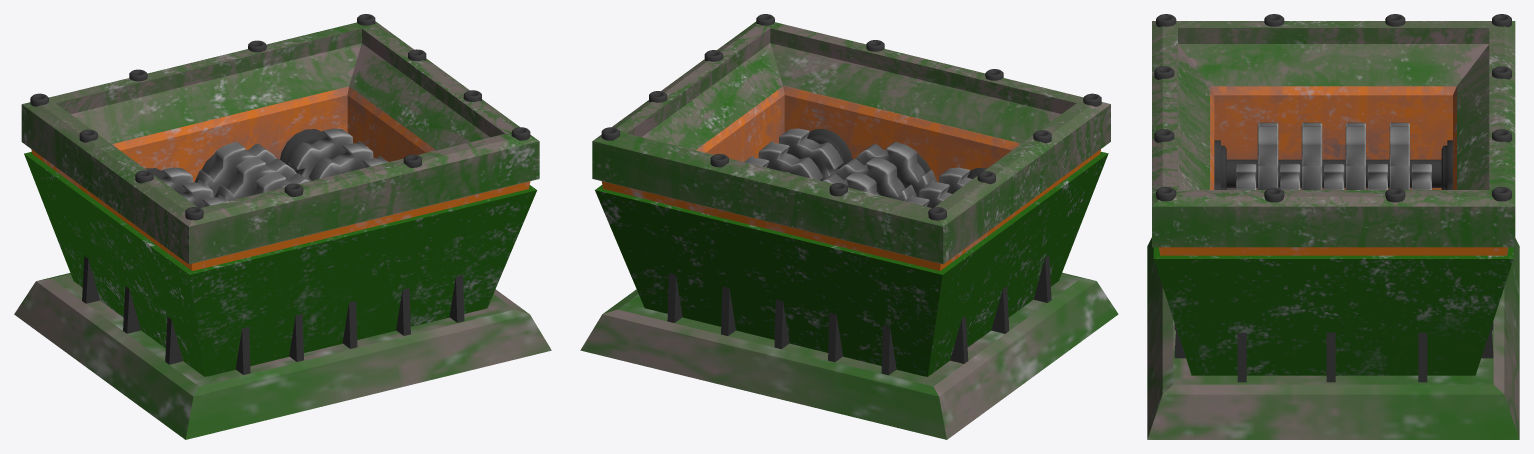
The model's file is lv3_shredding_machine.fbx.
3 renders of one model, left to right at view 1: azimuth 30°, elevation 25°; view 2: azimuth 150°, elevation 25°; view 3: azimuth 270°, elevation 25°, orthographic. The views are drawn at different scales.
Visible parts, largest first — view 1: Cube.025, Cylinder.006, Cylinder.115, Cylinder.118, Cylinder.114; view 2: Cube.025, Cylinder.006, Cylinder.115, Cylinder.118, Cylinder.113; view 3: Cube.025, Cylinder.118, Cylinder.006, Cylinder.116, Cylinder.117.
Boxes of the visible parts, x1,y1,x2,y2 form: Cube.025: (14, 14, 551, 439); Cylinder.006: (195, 142, 309, 201); Cylinder.115: (288, 128, 387, 181); Cylinder.118: (160, 167, 227, 207); Cylinder.114: (280, 129, 324, 168); Cube.025: (580, 14, 1118, 439); Cylinder.006: (822, 142, 937, 200); Cylinder.115: (744, 128, 843, 180); Cylinder.118: (904, 167, 972, 207); Cylinder.113: (807, 129, 852, 168); Cube.025: (1147, 14, 1519, 439); Cylinder.118: (1226, 122, 1441, 189); Cylinder.006: (1236, 164, 1431, 189); Cylinder.116: (1214, 140, 1226, 189); Cylinder.117: (1441, 140, 1452, 189).
Bounding box in the file's own units: 513 × 416 × 293.
